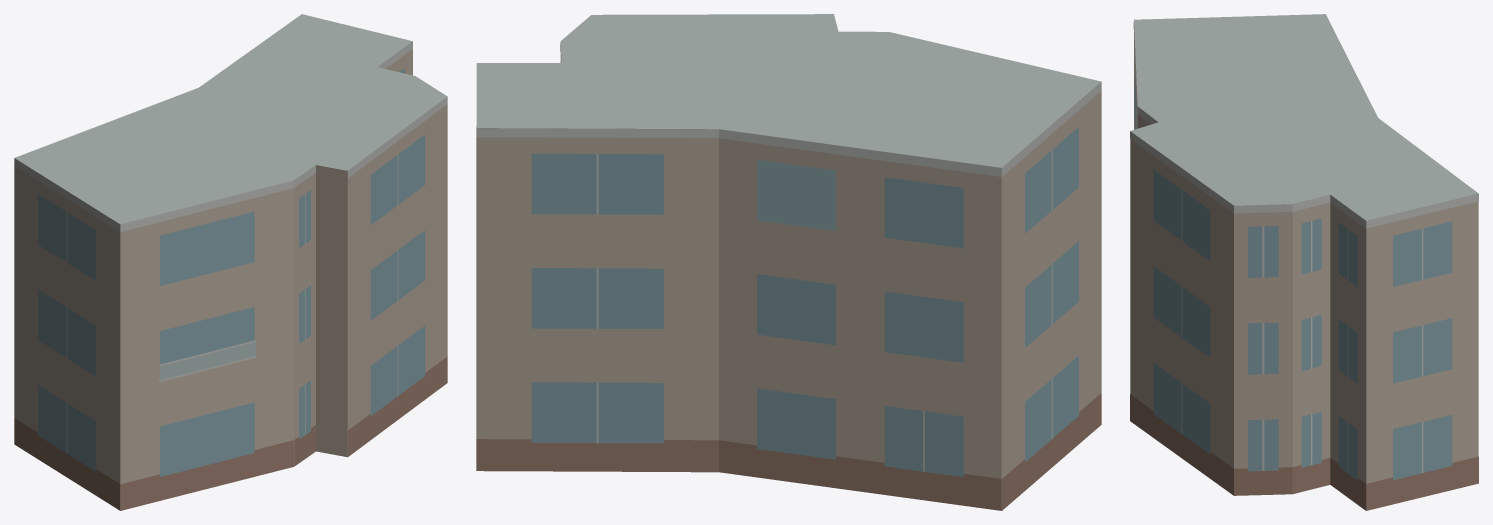
File: survey-upis-32895547.glb
The picture shows the model from 3 angles, left to right: view 1: azimuth 30°, elevation 25°; view 2: azimuth 150°, elevation 25°; view 3: azimuth 270°, elevation 25°; orthographic projection. The views are drawn at different scales.
Parts seen in each view (by area): view 1: survey-upis-32895547.tmp; view 2: survey-upis-32895547.tmp; view 3: survey-upis-32895547.tmp.
Part boxes in pixels (x1,y1,x2,y2): survey-upis-32895547.tmp: (14, 14, 447, 510); survey-upis-32895547.tmp: (476, 14, 1101, 510); survey-upis-32895547.tmp: (1130, 14, 1478, 510).
Bounding box in the file's own units: 14.01 × 9.15 × 9.98.
